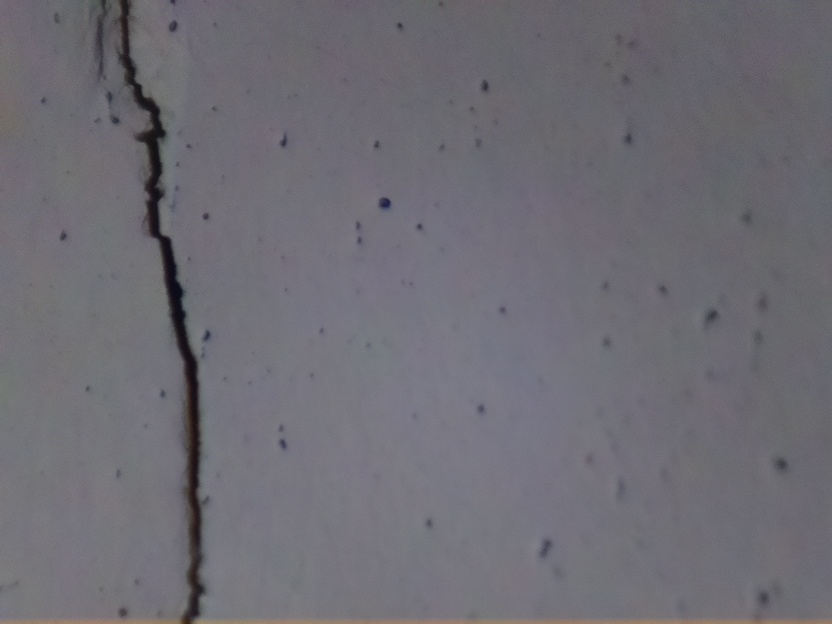crack: (117, 0, 206, 623)
